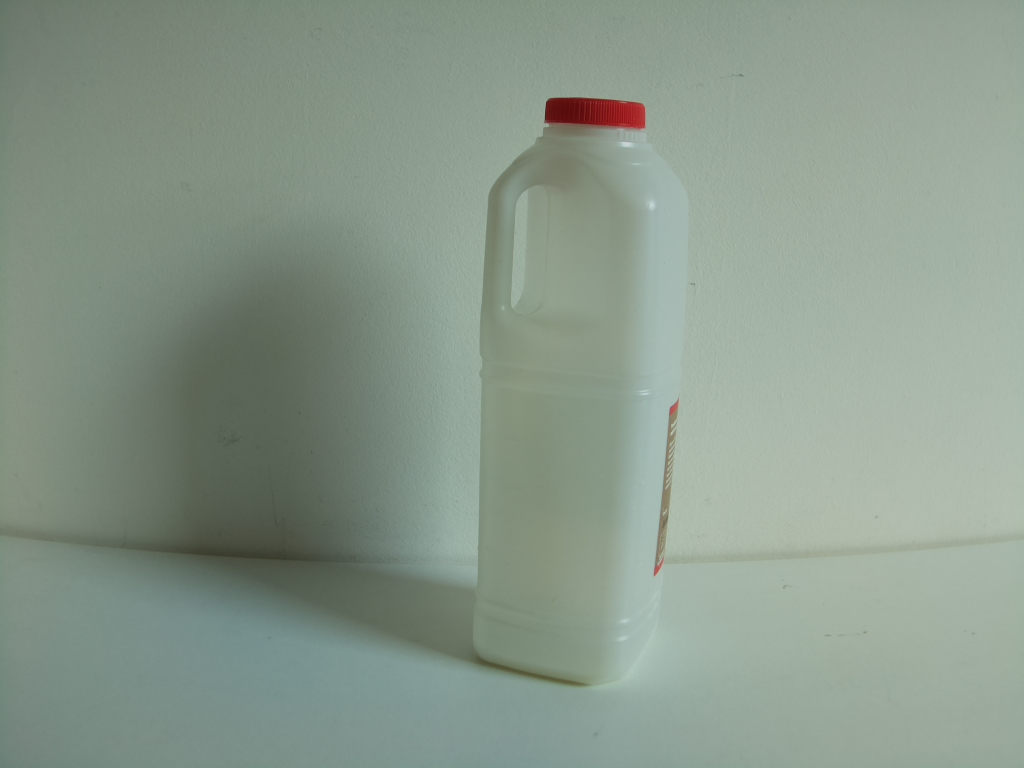milk: (463, 91, 696, 696)
